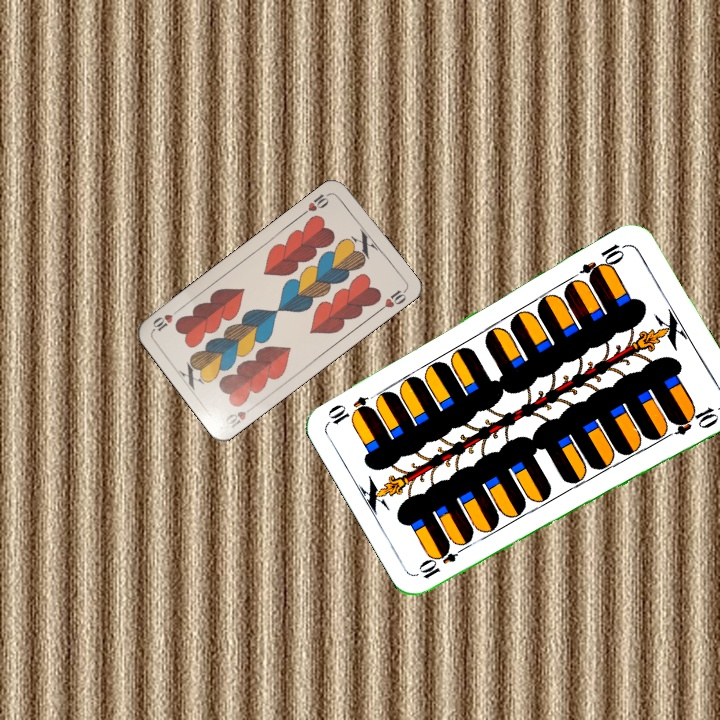E10: (577, 239, 630, 283), (416, 540, 470, 582)
H10: (221, 401, 258, 430), (299, 189, 334, 218)
